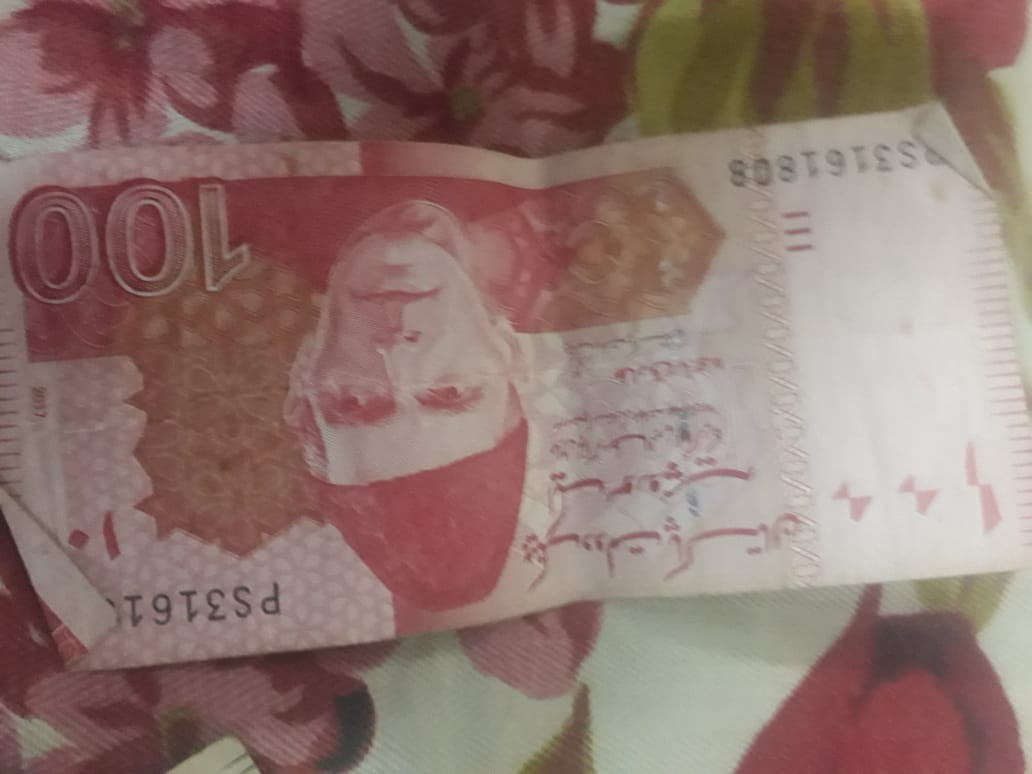100 rupee: (2, 96, 1030, 664)
